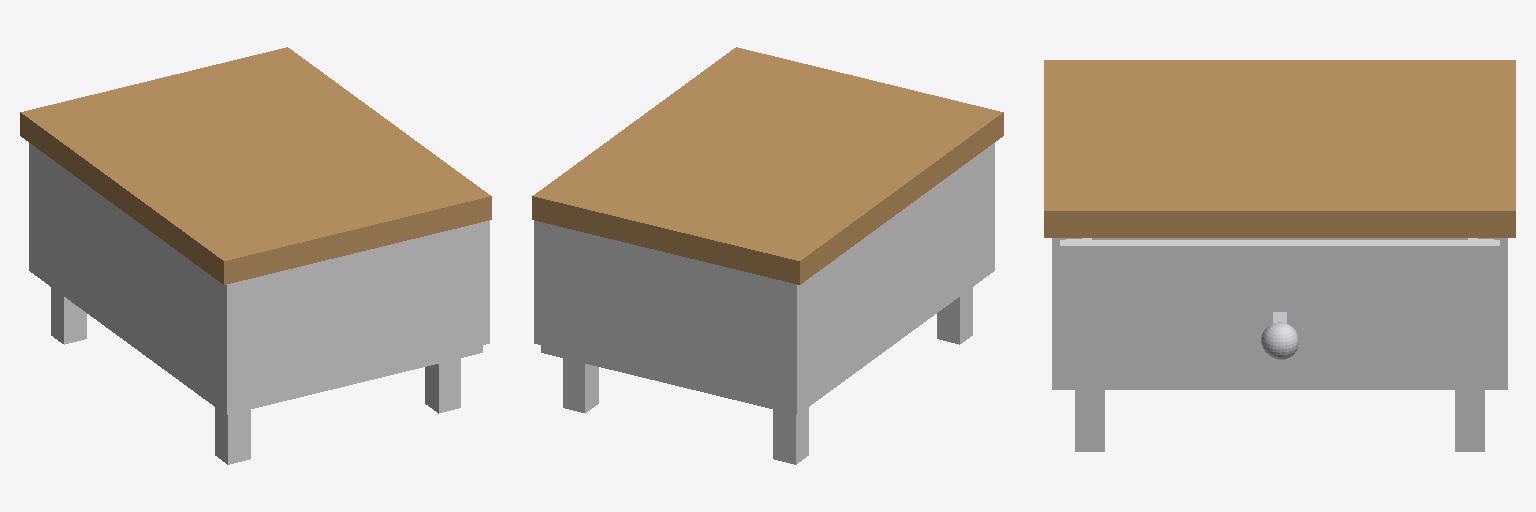
URDF robot description (drawer_cabinet):
<?xml version='1.0' encoding='utf-8'?>
<robot name="drawer_cabinet">
  <material name="body_white">
    <color rgba="0.9 0.9 0.9 1" />
    </material>
  <material name="wood_top">
    <color rgba="0.78 0.62 0.42 1" />
    </material>
  <material name="handle_white">
    <color rgba="0.85 0.86 0.88 1" />
    </material>
  <link name="base">
    <inertial>
      <origin xyz="0 0 0.11375" rpy="0 0 0" />
      <mass value="6.174" />
      <inertia ixx="0.117386" ixy="0" ixz="0" iyy="0.0776799" iyz="0" izz="0.141809" />
      </inertial>
    <visual name="leg_pp">
      <origin xyz="0.1295 0.175 0.035" rpy="0 0 0" />
      <geometry>
        <box size="0.028 0.028 0.07" />
        </geometry>
      <material name="body_white" />
      </visual>
    <visual name="leg_pn">
      <origin xyz="0.1295 -0.175 0.035" rpy="0 0 0" />
      <geometry>
        <box size="0.028 0.028 0.07" />
        </geometry>
      <material name="body_white" />
      </visual>
    <visual name="leg_np">
      <origin xyz="-0.1295 0.175 0.035" rpy="0 0 0" />
      <geometry>
        <box size="0.028 0.028 0.07" />
        </geometry>
      <material name="body_white" />
      </visual>
    <visual name="leg_nn">
      <origin xyz="-0.1295 -0.175 0.035" rpy="0 0 0" />
      <geometry>
        <box size="0.028 0.028 0.07" />
        </geometry>
      <material name="body_white" />
      </visual>
    <visual name="bottom_panel">
      <origin xyz="0 0 0.0763" rpy="0 0 0" />
      <geometry>
        <box size="0.315 0.42 0.0126" />
        </geometry>
      <material name="body_white" />
      </visual>
    <visual name="back_wall">
      <origin xyz="-0.1512 0 0.14875" rpy="0 0 0" />
      <geometry>
        <box size="0.0126 0.42 0.1575" />
        </geometry>
      <material name="body_white" />
      </visual>
    <visual name="side_wall_p">
      <origin xyz="0 0.2037 0.14875" rpy="0 0 0" />
      <geometry>
        <box size="0.315 0.0126 0.1575" />
        </geometry>
      <material name="body_white" />
      </visual>
    <visual name="side_wall_n">
      <origin xyz="0 -0.2037 0.14875" rpy="0 0 0" />
      <geometry>
        <box size="0.315 0.0126 0.1575" />
        </geometry>
      <material name="body_white" />
      </visual>
    <visual name="top_panel">
      <origin xyz="0 0 0.2415" rpy="0 0 0" />
      <geometry>
        <box size="0.329 0.434 0.028" />
        </geometry>
      <material name="wood_top" />
      </visual>
    <collision name="leg_pp">
      <origin xyz="0.1295 0.175 0.035" rpy="0 0 0" />
      <geometry>
        <box size="0.028 0.028 0.07" />
        </geometry>
      </collision>
    <collision name="leg_pn">
      <origin xyz="0.1295 -0.175 0.035" rpy="0 0 0" />
      <geometry>
        <box size="0.028 0.028 0.07" />
        </geometry>
      </collision>
    <collision name="leg_np">
      <origin xyz="-0.1295 0.175 0.035" rpy="0 0 0" />
      <geometry>
        <box size="0.028 0.028 0.07" />
        </geometry>
      </collision>
    <collision name="leg_nn">
      <origin xyz="-0.1295 -0.175 0.035" rpy="0 0 0" />
      <geometry>
        <box size="0.028 0.028 0.07" />
        </geometry>
      </collision>
    <collision name="bottom_panel">
      <origin xyz="0 0 0.0763" rpy="0 0 0" />
      <geometry>
        <box size="0.315 0.42 0.0126" />
        </geometry>
      </collision>
    <collision name="back_wall">
      <origin xyz="-0.1512 0 0.14875" rpy="0 0 0" />
      <geometry>
        <box size="0.0126 0.42 0.1575" />
        </geometry>
      </collision>
    <collision name="side_wall_p">
      <origin xyz="0 0.2037 0.14875" rpy="0 0 0" />
      <geometry>
        <box size="0.315 0.0126 0.1575" />
        </geometry>
      </collision>
    <collision name="side_wall_n">
      <origin xyz="0 -0.2037 0.14875" rpy="0 0 0" />
      <geometry>
        <box size="0.315 0.0126 0.1575" />
        </geometry>
      </collision>
    <collision name="top_panel">
      <origin xyz="0 0 0.2415" rpy="0 0 0" />
      <geometry>
        <box size="0.329 0.434 0.028" />
        </geometry>
      </collision>
    </link>
  <link name="drawer">
    <inertial>
      <origin xyz="0.0245 0 0.14875" rpy="0 0 0" />
      <mass value="0.5145" />
      <inertia ixx="0.00660725" ixy="0" ixz="0" iyy="0.00396015" iyz="0" izz="0.00871443" />
      </inertial>
    <visual name="front_panel">
      <origin xyz="0.1638 0 0.14875" rpy="0 0 0" />
      <geometry>
        <box size="0.0126 0.406 0.147" />
        </geometry>
      <material name="body_white" />
      </visual>
    <visual name="tray_floor">
      <origin xyz="0.0245 0 0.0952" rpy="0 0 0" />
      <geometry>
        <box size="0.266 0.364 0.0084" />
        </geometry>
      <material name="body_white" />
      </visual>
    <visual name="tray_back">
      <origin xyz="-0.1043 0 0.133" rpy="0 0 0" />
      <geometry>
        <box size="0.0084 0.364 0.084" />
        </geometry>
      <material name="body_white" />
      </visual>
    <visual name="tray_side_p">
      <origin xyz="0.0245 0.1778 0.133" rpy="0 0 0" />
      <geometry>
        <box size="0.266 0.0084 0.084" />
        </geometry>
      <material name="body_white" />
      </visual>
    <visual name="tray_side_n">
      <origin xyz="0.0245 -0.1778 0.133" rpy="0 0 0" />
      <geometry>
        <box size="0.266 0.0084 0.084" />
        </geometry>
      <material name="body_white" />
      </visual>
    <collision name="front_panel">
      <origin xyz="0.1638 0 0.14875" rpy="0 0 0" />
      <geometry>
        <box size="0.0126 0.406 0.147" />
        </geometry>
      </collision>
    <collision name="tray_floor">
      <origin xyz="0.0245 0 0.0952" rpy="0 0 0" />
      <geometry>
        <box size="0.266 0.364 0.0084" />
        </geometry>
      </collision>
    <collision name="tray_back">
      <origin xyz="-0.1043 0 0.133" rpy="0 0 0" />
      <geometry>
        <box size="0.0084 0.364 0.084" />
        </geometry>
      </collision>
    <collision name="tray_side_p">
      <origin xyz="0.0245 0.1778 0.133" rpy="0 0 0" />
      <geometry>
        <box size="0.266 0.0084 0.084" />
        </geometry>
      </collision>
    <collision name="tray_side_n">
      <origin xyz="0.0245 -0.1778 0.133" rpy="0 0 0" />
      <geometry>
        <box size="0.266 0.0084 0.084" />
        </geometry>
      </collision>
    </link>
  <link name="drawer_handle">
    <inertial>
      <origin xyz="0.1876 0 0.14875" rpy="0 0 0" />
      <mass value="0.01715" />
      <inertia ixx="3.50145e-06" ixy="0" ixz="0" iyy="8.75364e-06" iyz="0" izz="8.75364e-06" />
      </inertial>
    <visual name="handle_neck">
      <origin xyz="0.1876 0 0.14875" rpy="0 0 0" />
      <geometry>
        <box size="0.035 0.0126 0.0126" />
        </geometry>
      <material name="handle_white" />
      </visual>
    <visual name="handle">
      <origin xyz="0.2205 0 0.14875" rpy="0 0 0" />
      <geometry>
        <sphere radius="0.0175" />
        </geometry>
      <material name="handle_white" />
      </visual>
    <collision name="handle_neck">
      <origin xyz="0.1876 0 0.14875" rpy="0 0 0" />
      <geometry>
        <box size="0.035 0.0126 0.0126" />
        </geometry>
      </collision>
    <collision name="handle">
      <origin xyz="0.2205 0 0.14875" rpy="0 0 0" />
      <geometry>
        <sphere radius="0.0175" />
        </geometry>
      </collision>
    </link>
  <joint name="drawer_slide" type="prismatic">
    <parent link="base" />
    <child link="drawer" />
    <axis xyz="1 0 0" />
    <limit effort="120" velocity="1" lower="0" upper="0.245" />
    <dynamics damping="0.3" friction="0.1" />
    </joint>
  <joint name="handle_mount" type="fixed">
    <parent link="drawer" />
    <child link="drawer_handle" />
    </joint>
  </robot>

--- What the picture shows (computed from the rendered views, not written in the file) ---
The picture shows the robot from 3 angles, left to right: view 1: azimuth 30°, elevation 25°; view 2: azimuth 150°, elevation 25°; view 3: azimuth 270°, elevation 25°; orthographic projection.
Robot: drawer_cabinet — 3 links, 2 joints (1 prismatic, 1 fixed); root link base; default pose: every joint at zero.
Visible links, largest first — view 1: base, drawer; view 2: base, drawer; view 3: base, drawer, drawer_handle.
Boxes of the visible links, box(x1,y1,x2,y2) form: base: box(20, 47, 491, 464); drawer: box(483, 220, 489, 344); base: box(532, 47, 1003, 464); drawer: box(534, 220, 540, 344); base: box(1044, 60, 1515, 451); drawer: box(1060, 238, 1499, 389); drawer_handle: box(1261, 312, 1298, 359).
Bounding box of the posed robot: 0.4025 × 0.434 × 0.2555 m (x, y, z).
Geometry: primitives only (box / cylinder / sphere), no mesh files.
